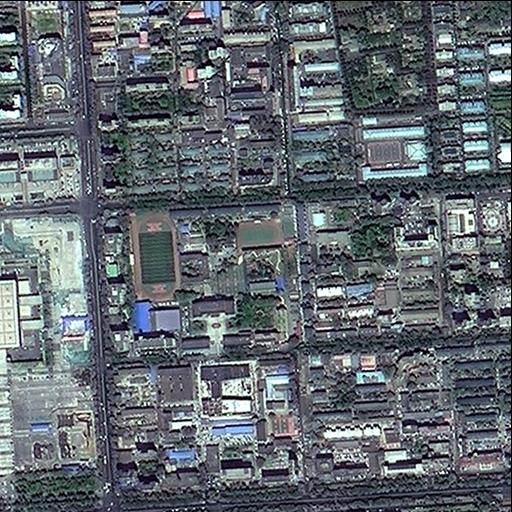school: (129, 200, 297, 354)
